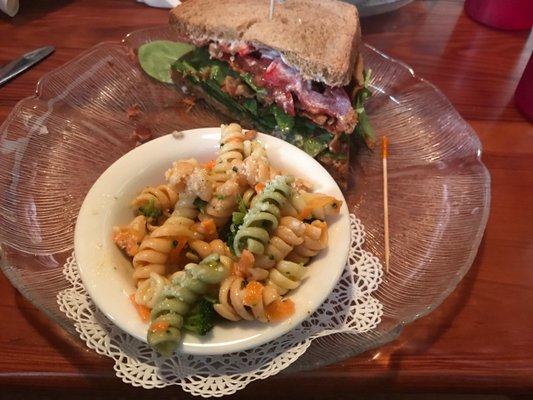sandwich: (0, 45, 56, 87)
soup: (133, 0, 371, 154)
sushi: (73, 125, 356, 363)
